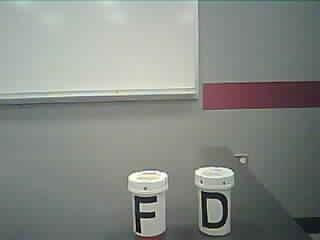Bottle D: (188, 161, 242, 240)
Bottle F: (120, 166, 177, 240)
